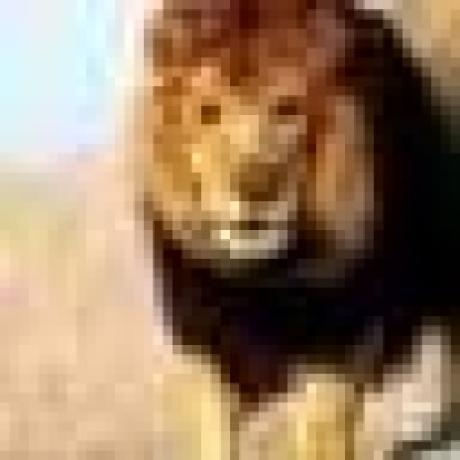Lion: (108, 0, 459, 460)
